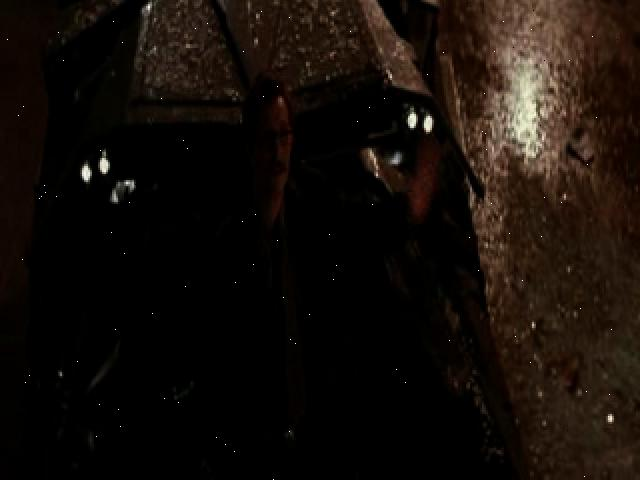L: (220, 71, 448, 480)
